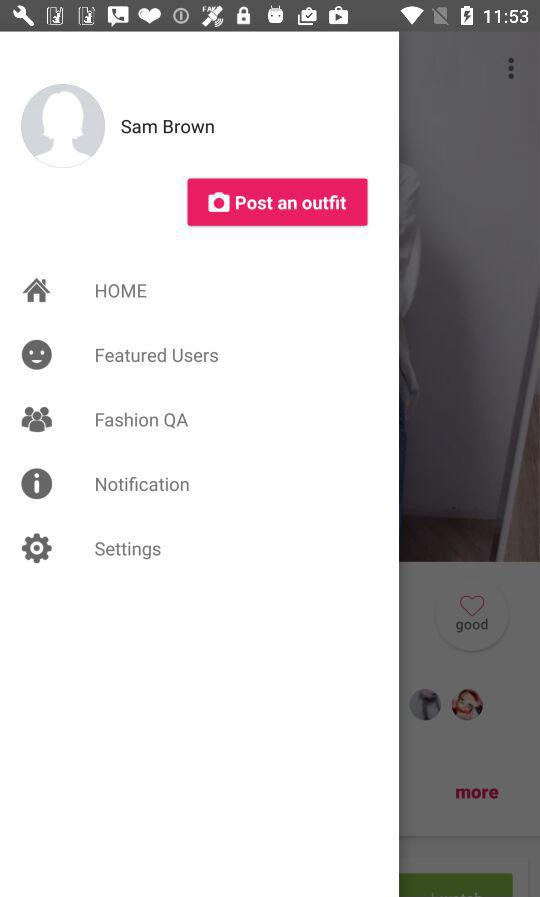Drawer: (1, 33, 399, 897)
Icon: (21, 84, 106, 169), (21, 468, 54, 500), (22, 533, 54, 564), (21, 406, 55, 433), (23, 277, 53, 304)
Image: (22, 340, 53, 371)
Text: (96, 347, 220, 364), (95, 412, 190, 430), (95, 476, 191, 493), (121, 119, 216, 136), (94, 540, 162, 561), (95, 283, 149, 300)
TextButton: (188, 178, 369, 227)
UpperTaskBar: (1, 1, 540, 33)
